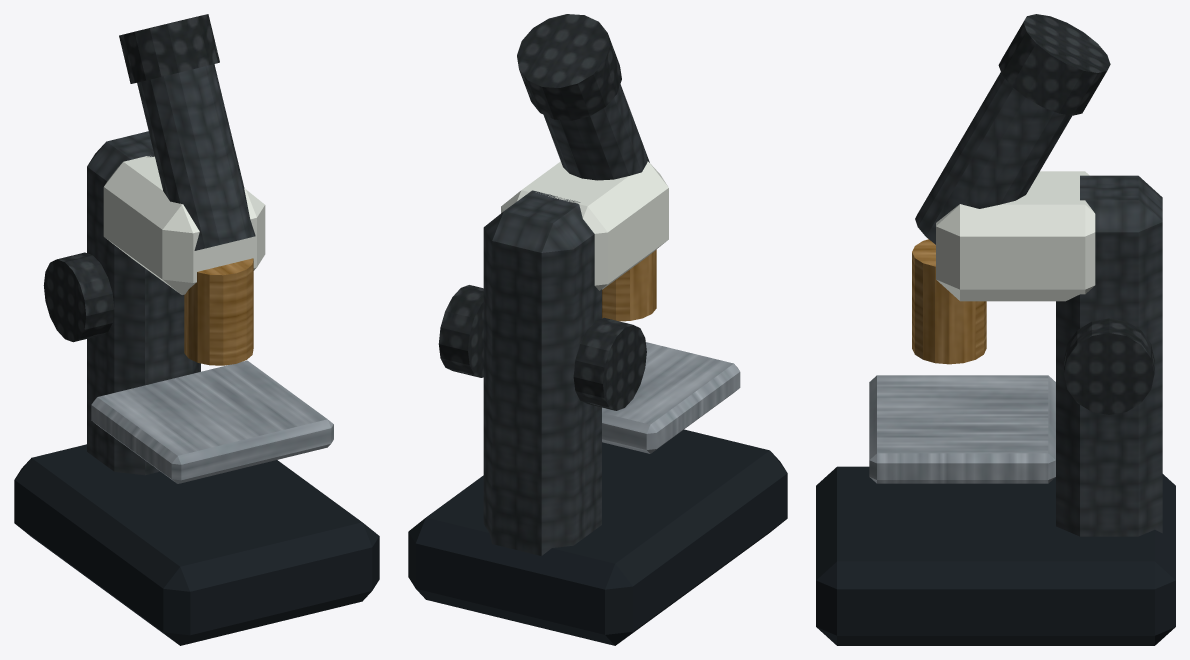
The model's file is microscope.glb.
3 views of the same model, side by side, from view 1: azimuth 30°, elevation 25°; view 2: azimuth 150°, elevation 25°; view 3: azimuth 270°, elevation 25° (orthographic). The views are drawn at different scales.
Parts seen in each view (by area): view 1: fixed_black, fixed_hull, fixed_trim, fixed_white, fixed_rubber, fixed_brass; view 2: fixed_black, fixed_hull, fixed_rubber, fixed_white, fixed_trim, fixed_brass; view 3: fixed_black, fixed_hull, fixed_trim, fixed_white, fixed_rubber, fixed_brass.
Boxes of the visible parts, left/top/right/bottom form: fixed_black: left=14, top=444, right=379, bottom=645; fixed_hull: left=87, top=64, right=255, bottom=475; fixed_trim: left=91, top=360, right=333, bottom=483; fixed_white: left=103, top=156, right=265, bottom=294; fixed_rubber: left=43, top=14, right=219, bottom=342; fixed_brass: left=184, top=258, right=253, bottom=365; fixed_black: left=408, top=429, right=787, bottom=645; fixed_hull: left=483, top=84, right=649, bottom=555; fixed_rubber: left=438, top=14, right=646, bottom=410; fixed_white: left=501, top=161, right=668, bottom=290; fixed_trim: left=602, top=342, right=740, bottom=453; fixed_brass: left=602, top=249, right=656, bottom=321; fixed_black: left=816, top=466, right=1175, bottom=645; fixed_hull: left=915, top=72, right=1162, bottom=536; fixed_trim: left=869, top=375, right=1055, bottom=483; fixed_white: left=936, top=171, right=1095, bottom=301; fixed_rubber: left=998, top=14, right=1154, bottom=414; fixed_brass: left=912, top=239, right=986, bottom=364.
Bounding box in the file's own units: 0.2 × 0.477 × 0.27.
Materials: 6 (4 with a texture image).
